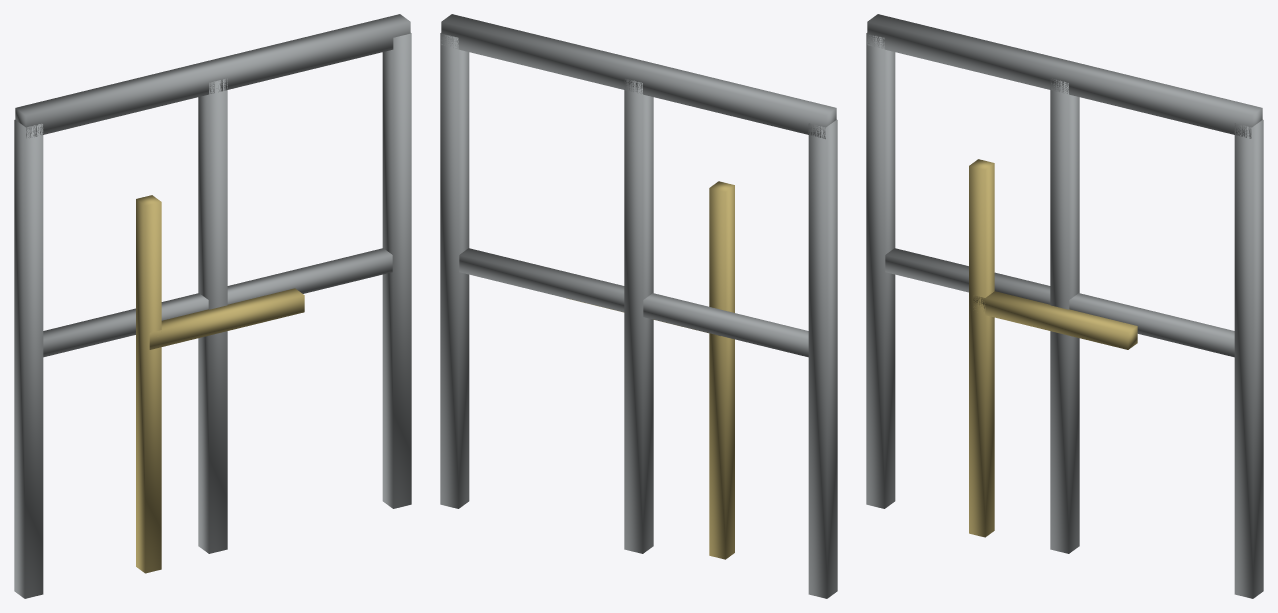
File: residential_gate_l90_h110.glb
The picture shows the model from 3 angles, left to right: view 1: azimuth 30°, elevation 25°; view 2: azimuth 150°, elevation 25°; view 3: azimuth 330°, elevation 25°; orthographic projection.
Visible parts, largest first — view 1: world; view 2: world; view 3: world.
Part boxes in pixels (x1,y1,x2,y2): world: [14, 14, 411, 598]; world: [440, 14, 837, 598]; world: [866, 14, 1263, 598].
Bounding box in the file's own units: 0.945 × 1.13 × 0.0825.
